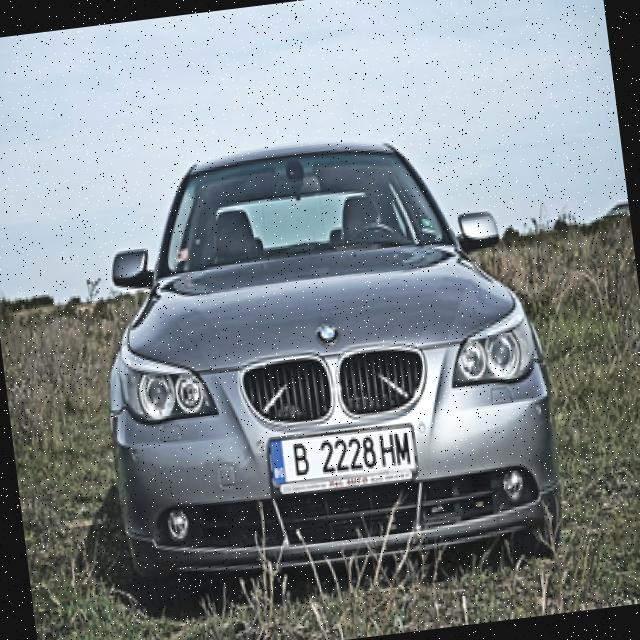Autre: (267, 426, 418, 498)
